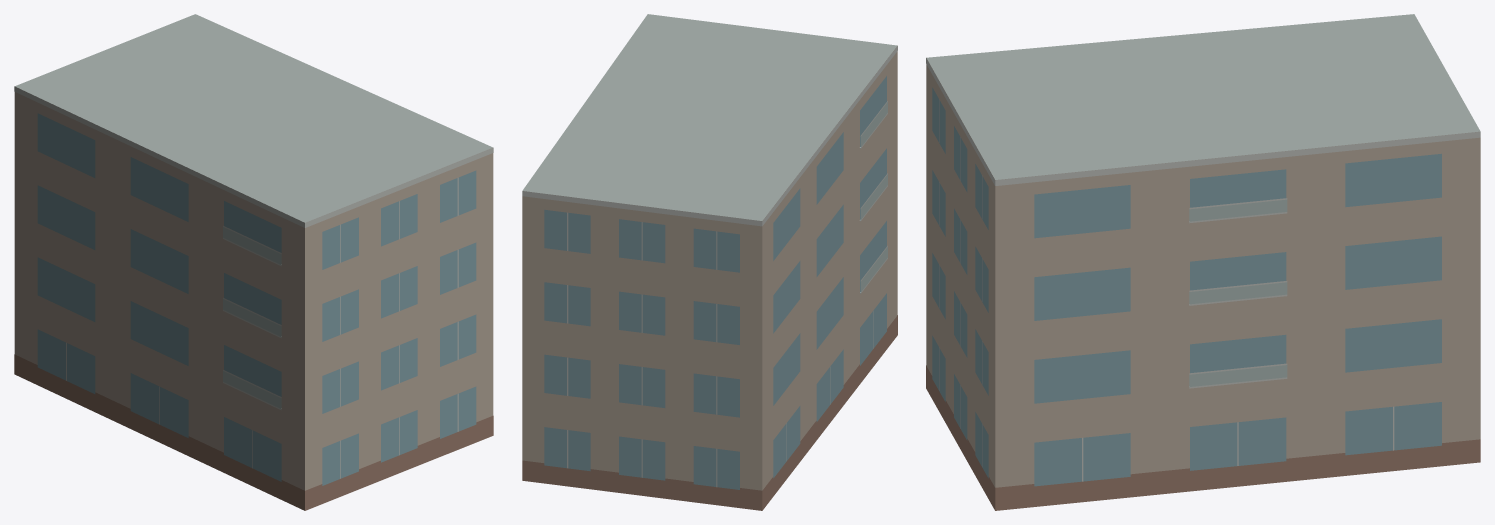
The model's file is survey-upis-32713638.glb.
The picture shows the model from 3 angles, left to right: view 1: azimuth 30°, elevation 25°; view 2: azimuth 150°, elevation 25°; view 3: azimuth 270°, elevation 25°; orthographic projection. The views are drawn at different scales.
Visible parts, largest first — view 1: survey-upis-32713638.tmp; view 2: survey-upis-32713638.tmp; view 3: survey-upis-32713638.tmp.
Part boxes in pixels (x1,y1,x2,y2): survey-upis-32713638.tmp: [14, 14, 493, 510]; survey-upis-32713638.tmp: [522, 14, 897, 510]; survey-upis-32713638.tmp: [926, 14, 1480, 510].
Size of the model in its own units: 14.33 by 13.3 by 20.21.
